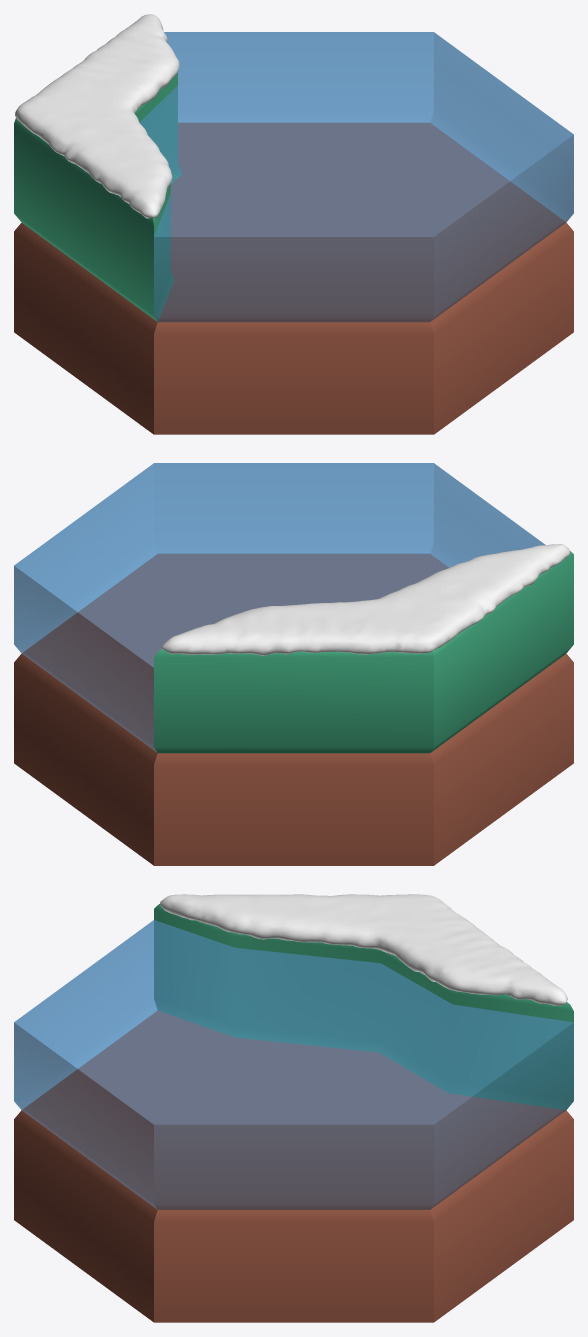
The model's file is hex_forest_waterA_detail.fbx.
The picture shows the model from 3 angles, top to bottom: view 1: azimuth 30°, elevation 25°; view 2: azimuth 150°, elevation 25°; view 3: azimuth 270°, elevation 25°; orthographic projection.
Visible parts, largest first — view 1: hex_forest_waterA_detail.001, hex_forest_waterA_detail, hex_forest_waterA_detail.002, SnowBall.001; view 2: hex_forest_waterA_detail.001, hex_forest_waterA_detail, hex_forest_waterA_detail.002, SnowBall.001; view 3: hex_forest_waterA_detail.001, hex_forest_waterA_detail, hex_forest_waterA_detail.002, SnowBall.001.
Boxes of the visible parts, box(x1,y1,x2,y2) form: hex_forest_waterA_detail.001: box(14, 123, 573, 434); hex_forest_waterA_detail: box(140, 32, 573, 322); hex_forest_waterA_detail.002: box(14, 73, 181, 321); SnowBall.001: box(15, 14, 179, 218); hex_forest_waterA_detail.001: box(14, 554, 573, 865); hex_forest_waterA_detail: box(14, 463, 545, 752); hex_forest_waterA_detail.002: box(154, 551, 573, 753); SnowBall.001: box(161, 544, 569, 655); hex_forest_waterA_detail.001: box(14, 1011, 573, 1322); hex_forest_waterA_detail: box(14, 920, 573, 1209); hex_forest_waterA_detail.002: box(154, 904, 573, 1109); SnowBall.001: box(160, 894, 567, 1005).
Size of the model in its own units: 202 by 103 by 231.
